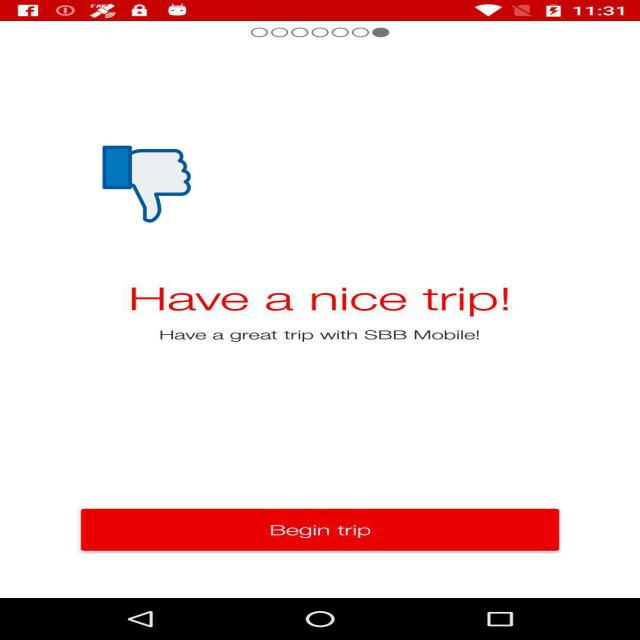obstruction: (102, 144, 191, 224)
